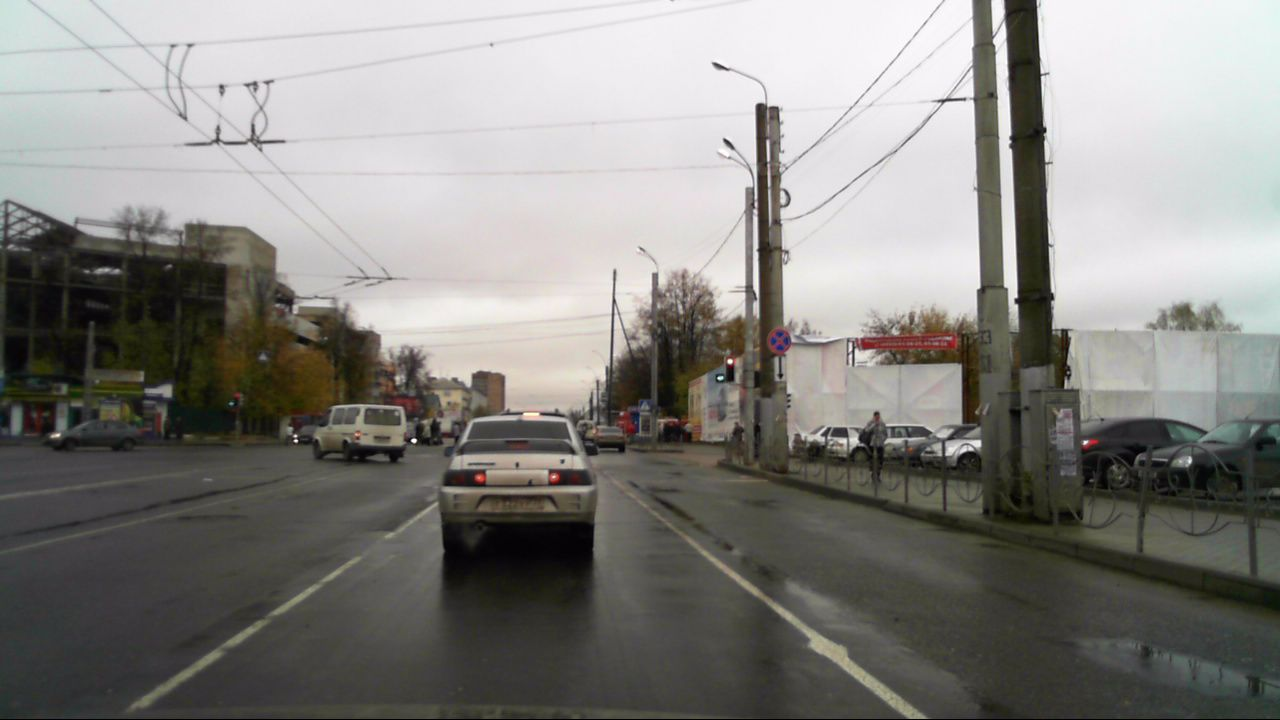No Parking: (766, 327, 791, 355)
